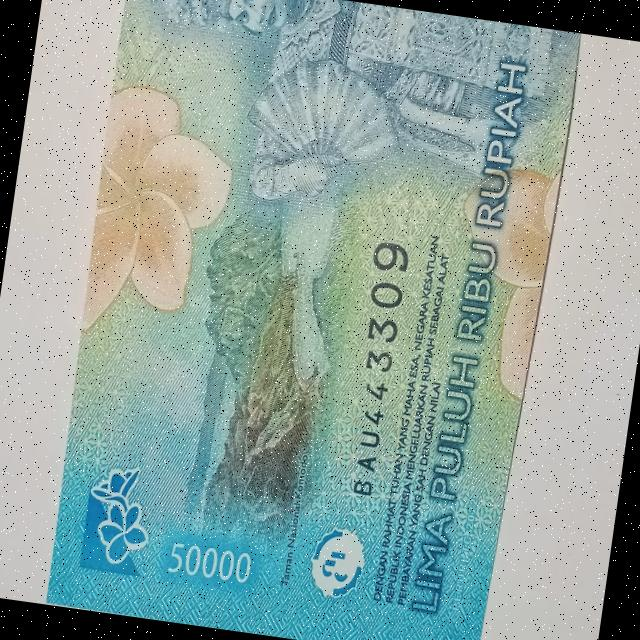50K: (33, 0, 595, 640)
